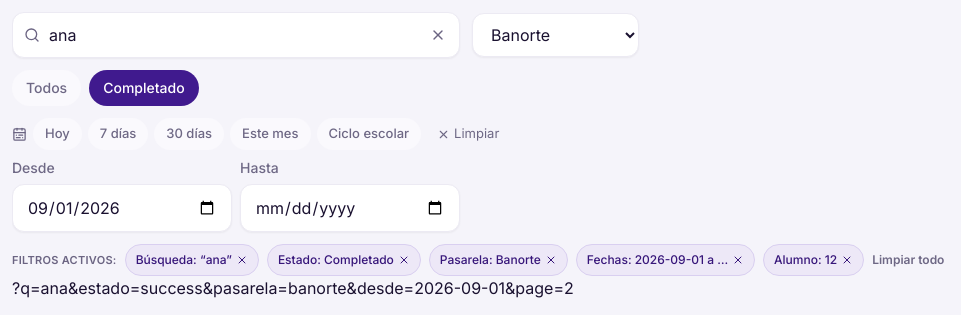
Test: FilterBar › a chip clears its own param; "Limpiar todo" clears every known param and the extra chips
The width and height of the screenshot is (961, 315).
Click the button with aria-label "Quitar filtro: Pasarela: Banorte". click: (498,260)
box: [429,244,568,276]
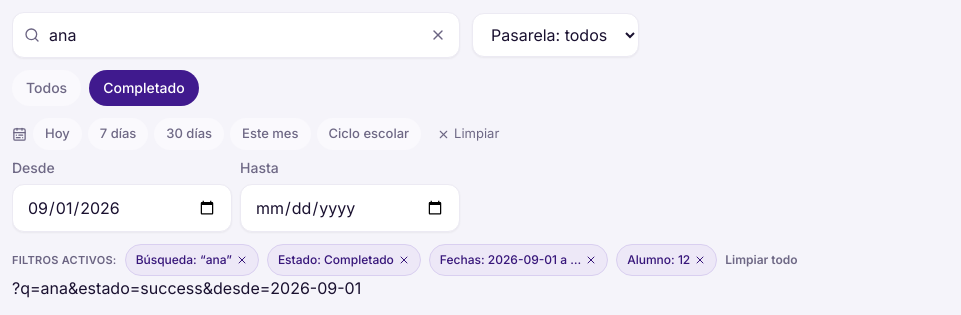
expect the text with test id "url" shows "q=ana": met, box [12,278,361,298]
expect the text with test id "url" no longer shows "pasarela=": met, box [12,278,361,298]
Click the button "Limpiar todo". click: (761,260)
box: [725,252,798,268]
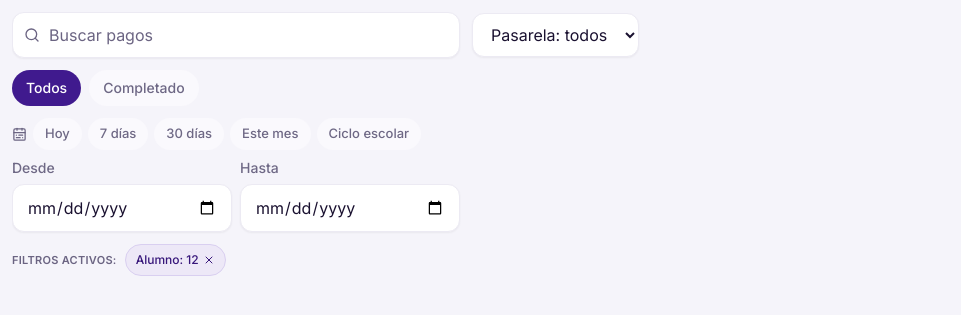
expect the field labelled "Buscar pagos" is empty: met, box [12,12,460,58]
